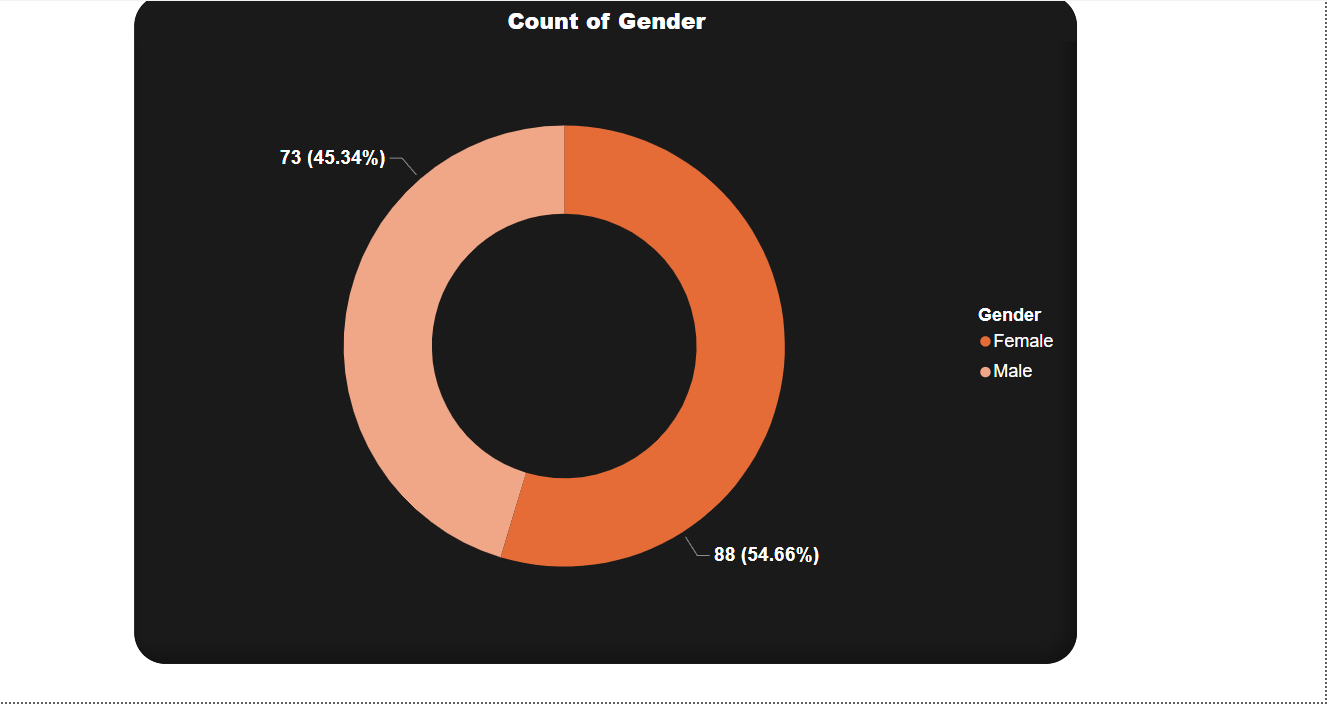

What the dashboard file says about the page in this screenshot:
{"tool":"powerbi","page":{"name":"count of gender","canvas":[1280,720],"ordinal":1},"visuals":[{"type":"donutChart","title":"Count of Gender ","fields":{"Y":["CountNonNull(data.Gender)"],"Category":["data.Gender"]},"box":[131.1,37.3,909.4,645.8],"z":0}]}

Visuals, with their boxes in screenshot pixels (x1, y1, x2, y2):
"Count of Gender " donutChart: 133:0:1076:661
